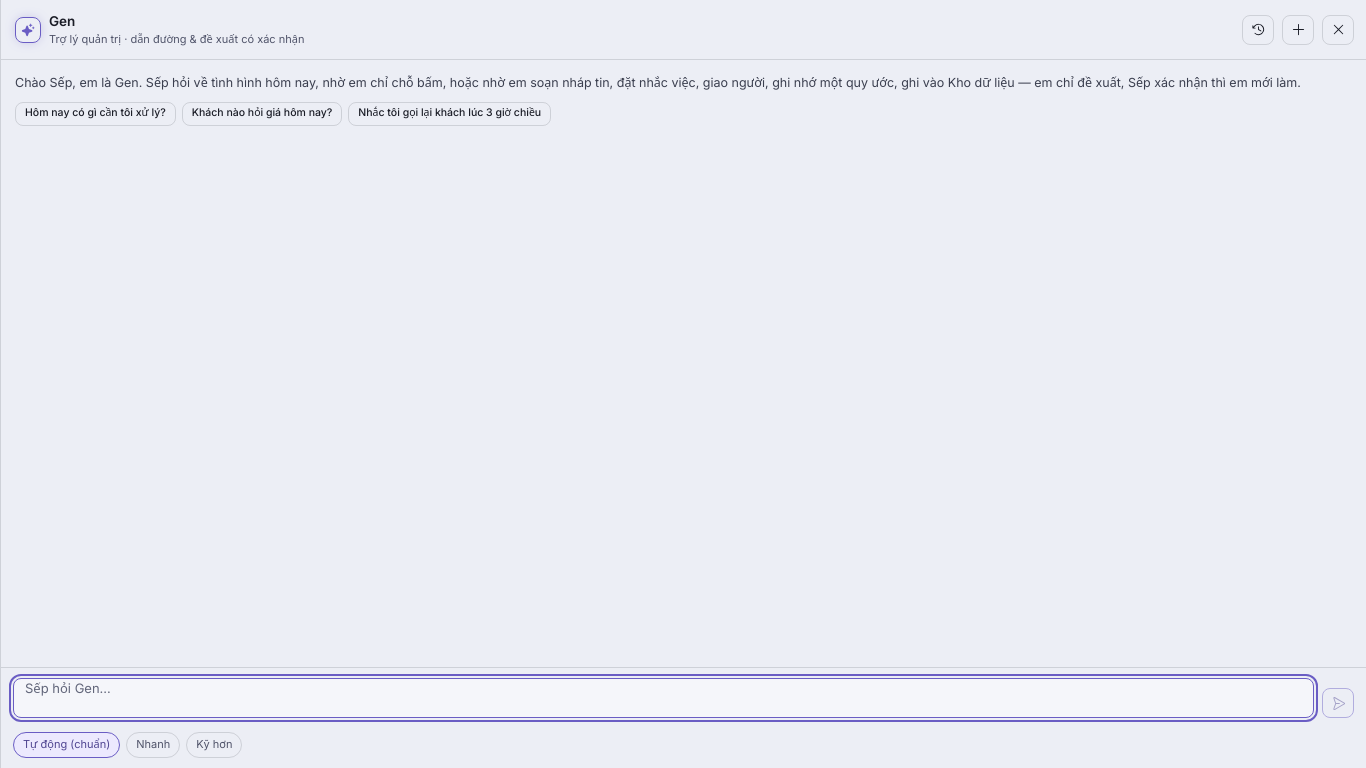
Test: gửi câu hỏi kèm lựa chọn › 422 MODEL_CHOICE_INVALID ⇒ câu thân thiện + "Chi tiết kỹ thuật" (chuỗi), lựa chọn về Tự động, không render object
Click the button "Kỹ hơn" at point(214, 745), box [186,732,242,758]
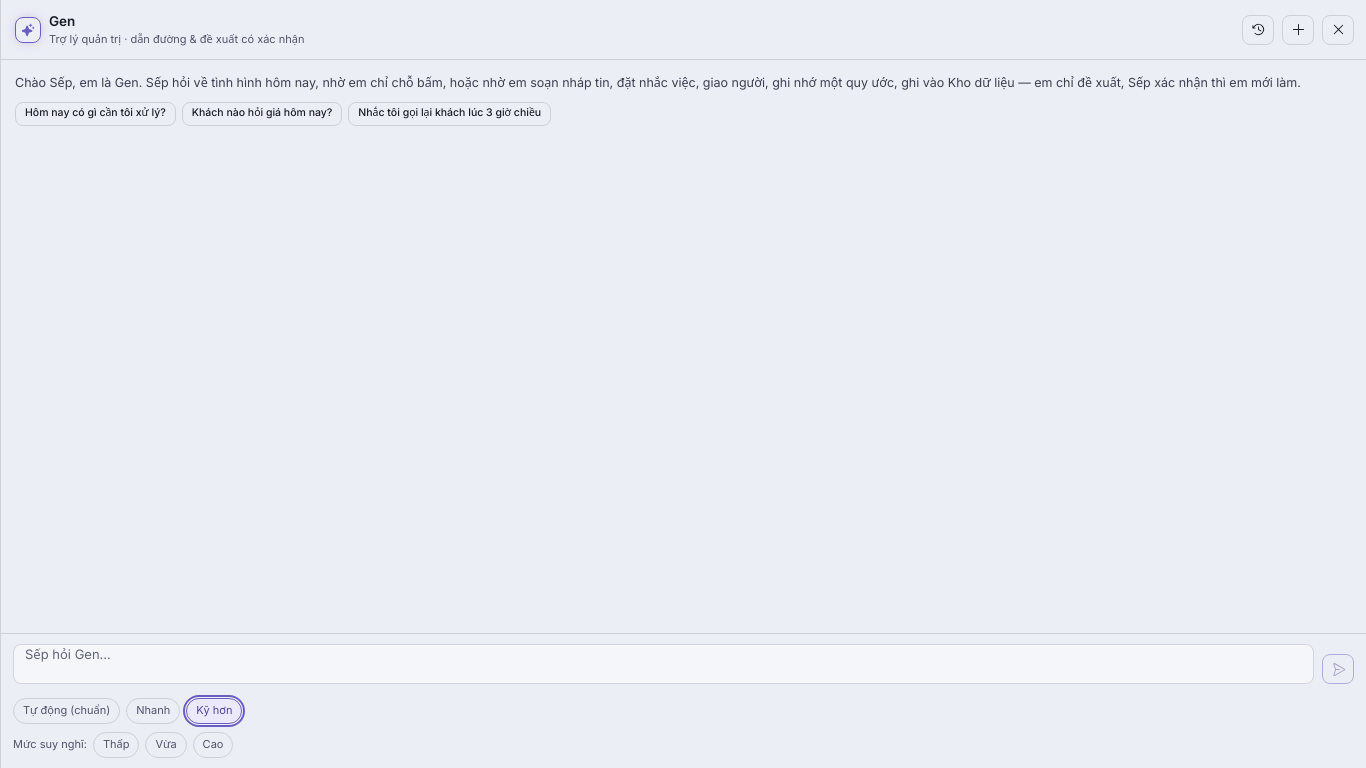
Type "Gửi lựa chọn hỏng" into the text box named "Câu hỏi cho Gen" at point(664, 664), box [13,644,1314,684]
Then press Enter
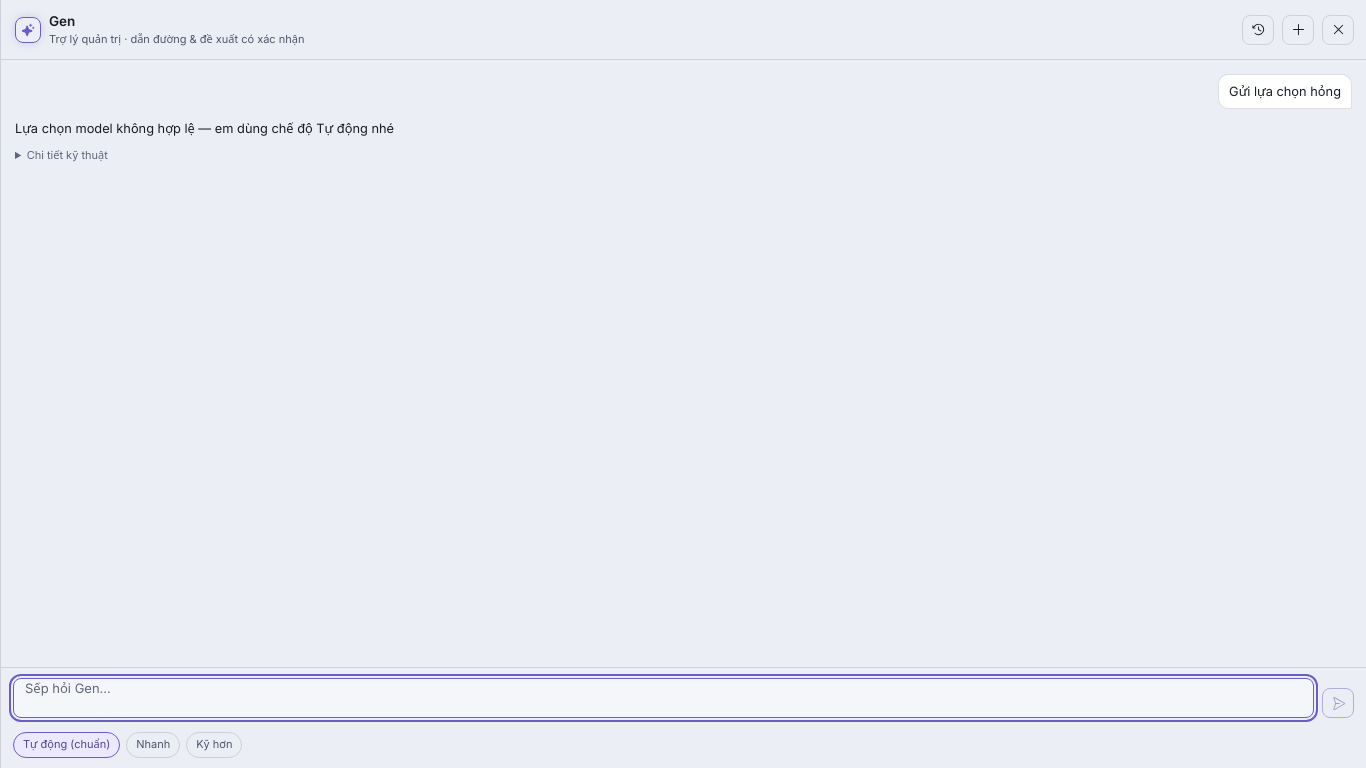
Now the text "Lựa chọn model không hợp lệ — em dùng chế độ Tự động nhé" is shown, box [15,119,394,138]
Now the heading "Chi tiết kỹ thuật" is shown, box [15,147,108,163]
